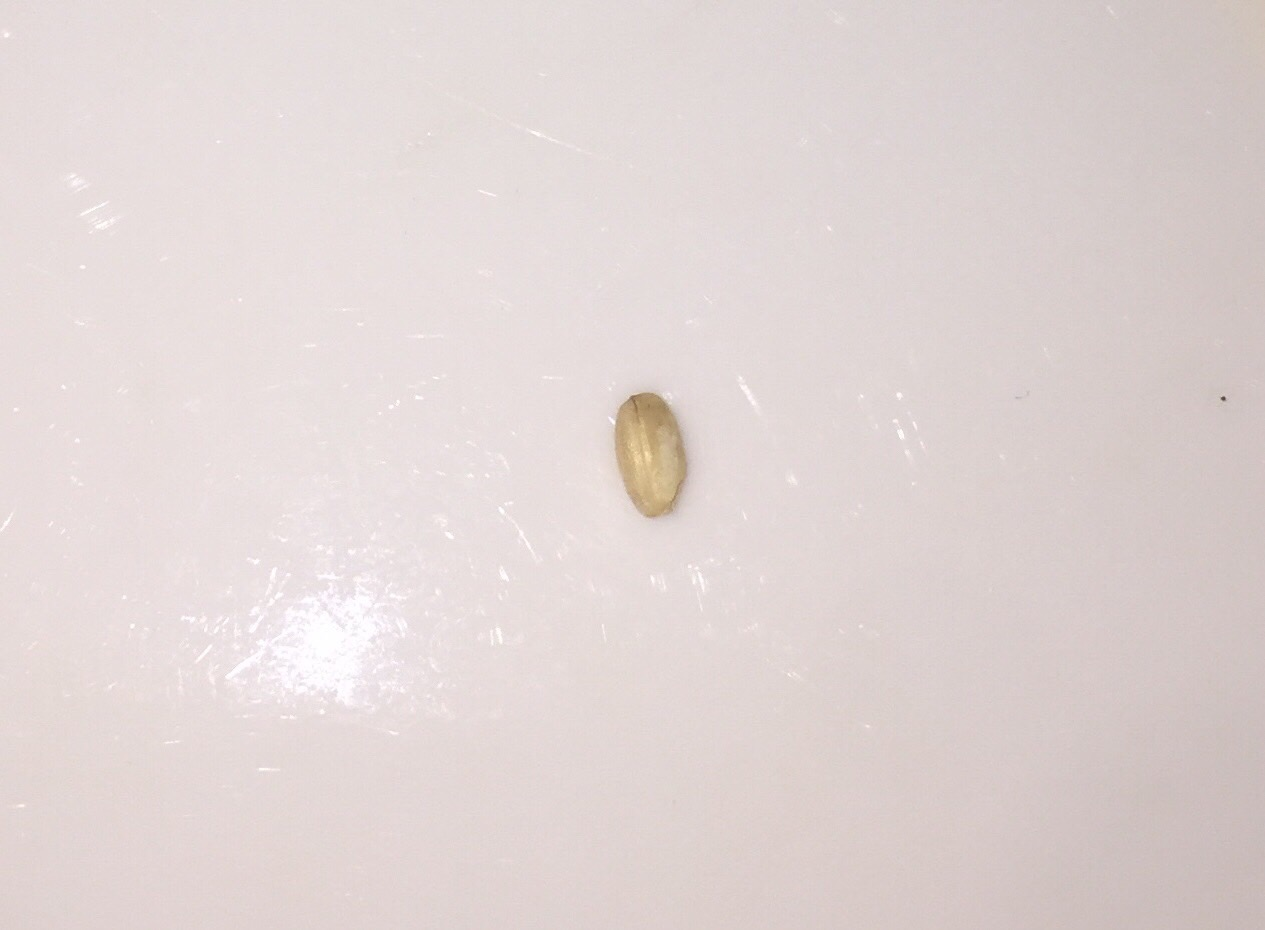Gao Lut Bac: (585, 370, 705, 534)
